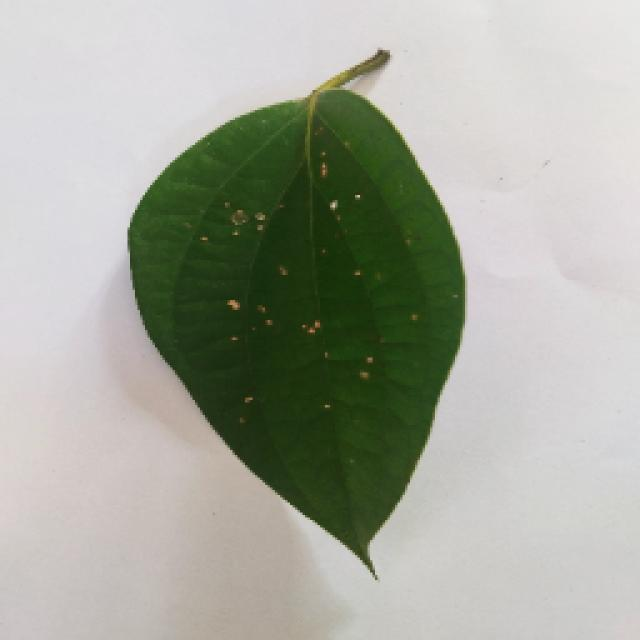pollu-disease: (115, 53, 473, 575)
